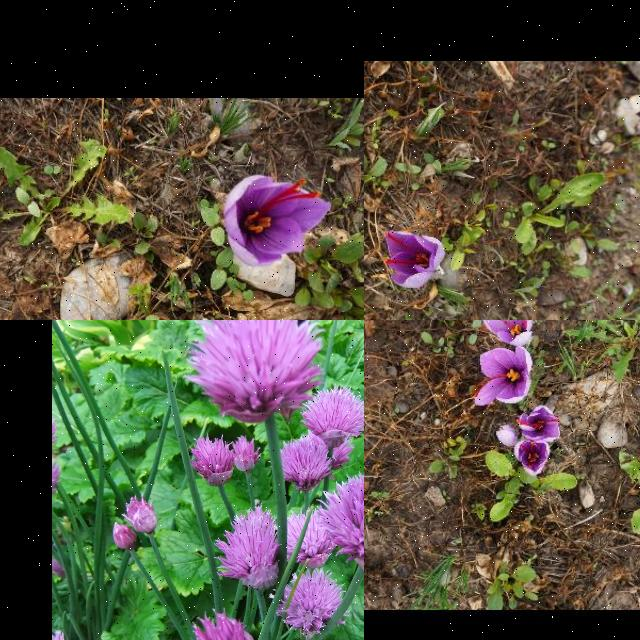flower: (223, 174, 333, 268), (383, 230, 447, 290), (474, 348, 532, 404), (516, 406, 560, 440), (478, 320, 531, 347), (514, 440, 550, 478), (496, 424, 520, 448)
